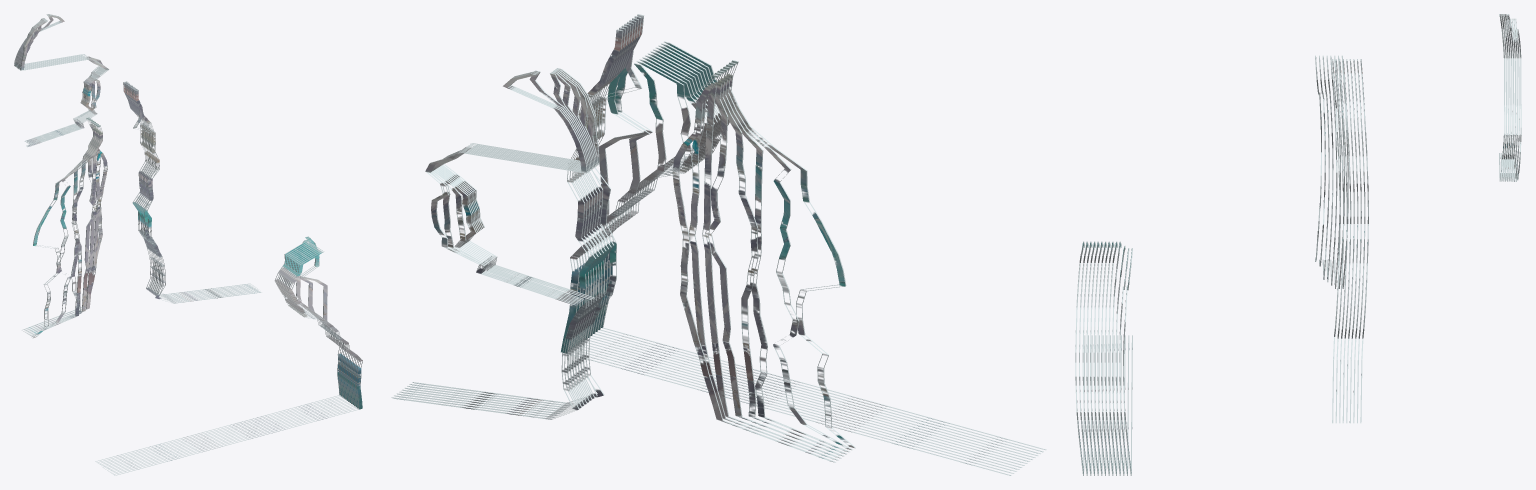
Rendered from yuna_semantic_layer_v9_hair.glb.
3 views of the same model, side by side, from view 1: azimuth 30°, elevation 25°; view 2: azimuth 150°, elevation 25°; view 3: azimuth 270°, elevation 25° (orthographic). The views are drawn at different scales.
Parts seen in each view (by area): view 1: hair_back_ribbon_01, hair_side_right_ribbon_01, hair_side_left_ribbon_01, hair_side_left_ribbon_05, hair_side_left_ribbon_03, hair_back_ribbon_14, hair_back_ribbon_02, hair_back_ribbon_13, hair_side_left_ribbon_02, hair_side_left_ribbon_06, hair_side_left_ribbon_04, hair_back_ribbon_03 (+25 smaller); view 2: hair_side_left_ribbon_08, hair_side_left_ribbon_06, hair_side_left_ribbon_05, hair_side_left_ribbon_04, hair_back_ribbon_14, hair_side_left_ribbon_07, hair_side_left_ribbon_01, hair_side_left_ribbon_03, hair_side_right_ribbon_09, hair_side_left_ribbon_02, hair_side_right_ribbon_01, hair_back_ribbon_12 (+29 smaller); view 3: hair_side_right_ribbon_05, hair_side_right_ribbon_03, hair_side_right_ribbon_07, hair_side_right_ribbon_01, hair_side_right_ribbon_09, hair_side_right_ribbon_08, hair_back_ribbon_13, hair_back_ribbon_09, hair_side_right_ribbon_06, hair_back_ribbon_06, hair_back_ribbon_03, hair_side_right_ribbon_04 (+11 smaller).
Part boxes in pixels (box(x1,y1,x2,y2)): hair_back_ribbon_01: box(114, 251, 362, 475); hair_side_right_ribbon_01: box(133, 90, 261, 303); hair_side_left_ribbon_01: box(32, 125, 102, 338); hair_side_left_ribbon_05: box(26, 120, 97, 333); hair_side_left_ribbon_03: box(29, 123, 99, 335); hair_back_ribbon_14: box(95, 236, 341, 461); hair_back_ribbon_02: box(113, 250, 360, 474); hair_back_ribbon_13: box(96, 237, 342, 462); hair_side_left_ribbon_02: box(31, 124, 101, 337); hair_side_left_ribbon_06: box(25, 119, 96, 332); hair_side_left_ribbon_04: box(28, 121, 97, 334); hair_back_ribbon_03: box(111, 249, 359, 473); hair_side_left_ribbon_08: box(672, 74, 835, 462); hair_side_left_ribbon_06: box(702, 70, 841, 458); hair_side_left_ribbon_05: box(705, 68, 844, 456); hair_side_left_ribbon_04: box(716, 66, 846, 454); hair_back_ribbon_14: box(561, 67, 1011, 475); hair_side_left_ribbon_07: box(689, 72, 838, 460); hair_side_left_ribbon_01: box(726, 60, 855, 448); hair_side_left_ribbon_03: box(720, 64, 849, 452); hair_side_right_ribbon_09: box(391, 29, 623, 419); hair_side_left_ribbon_02: box(723, 62, 852, 450); hair_side_right_ribbon_01: box(412, 14, 643, 404); hair_back_ribbon_12: box(571, 63, 1016, 471); hair_side_right_ribbon_05: box(1346, 59, 1354, 423); hair_side_right_ribbon_03: box(1339, 59, 1347, 423); hair_side_right_ribbon_07: box(1353, 59, 1361, 423); hair_side_right_ribbon_01: box(1332, 59, 1340, 423); hair_side_right_ribbon_09: box(1360, 59, 1368, 423); hair_side_right_ribbon_08: box(1357, 59, 1365, 423); hair_back_ribbon_13: box(1119, 248, 1129, 475); hair_back_ribbon_09: box(1104, 241, 1114, 475); hair_side_right_ribbon_06: box(1349, 59, 1358, 423); hair_back_ribbon_06: box(1093, 241, 1103, 475); hair_back_ribbon_03: box(1082, 241, 1092, 475); hair_side_right_ribbon_04: box(1342, 59, 1351, 423).
Bounding box in the file's own units: 1.19 × 1.41 × 1.5.
5 materials, 4 textured.
